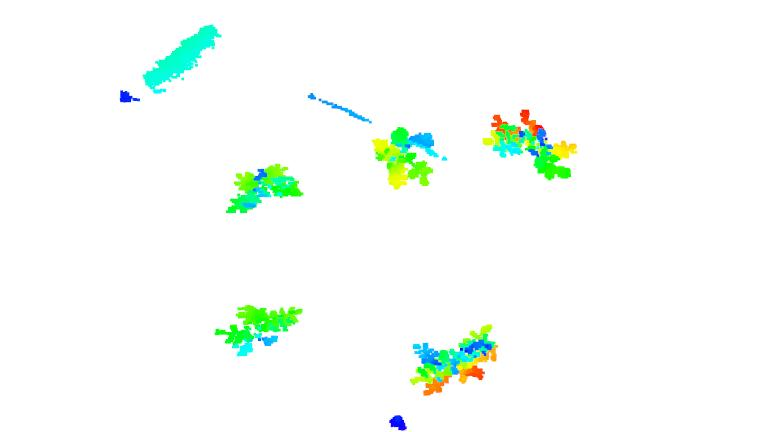chickpea: (409, 322, 509, 396), (489, 109, 577, 183), (217, 298, 300, 358), (367, 128, 445, 188), (227, 164, 302, 218)
